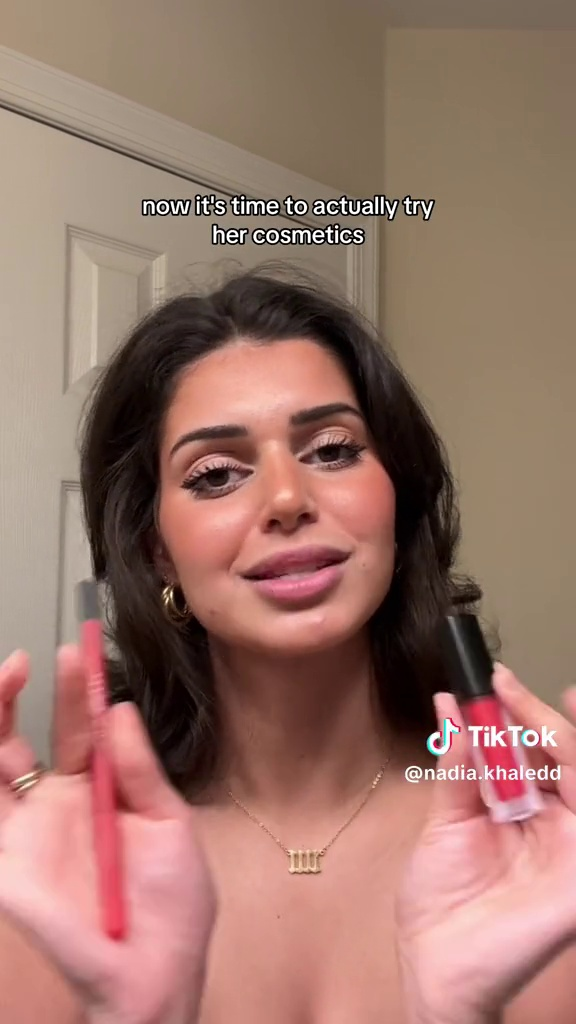train' :'yolo_data/train/images',: (68, 563, 143, 952), (428, 604, 547, 831)
